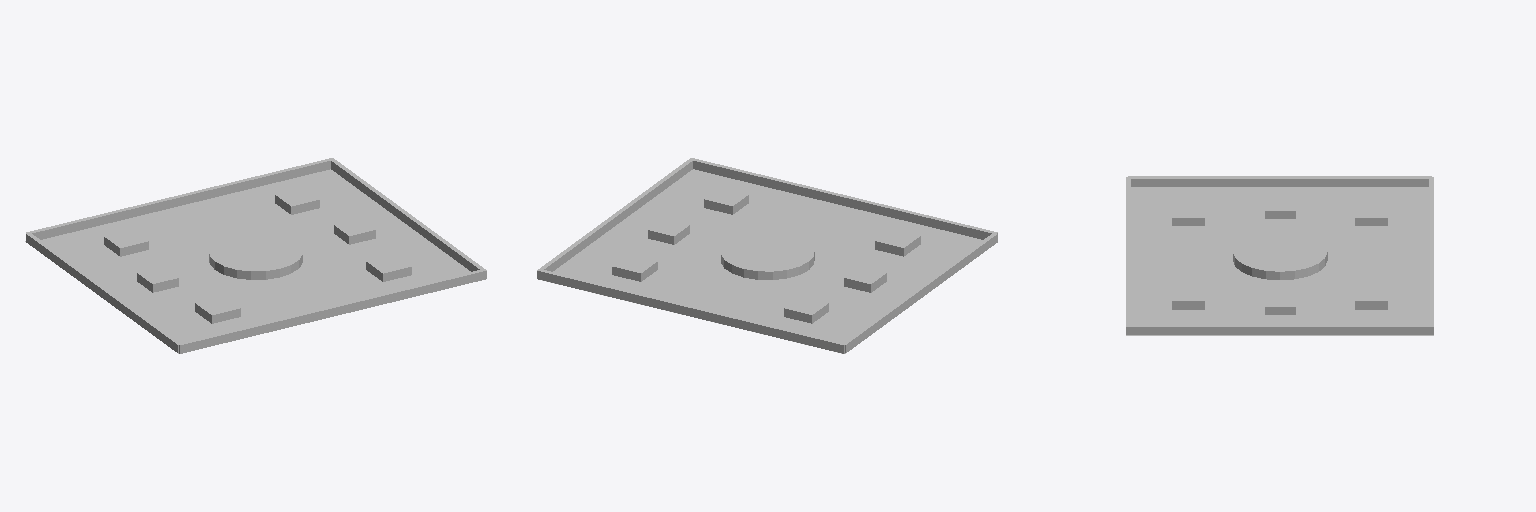
File: TestLevel02.obj
The picture shows the model from 3 angles: view 1: azimuth 30°, elevation 25°; view 2: azimuth 150°, elevation 25°; view 3: azimuth 270°, elevation 25°; orthographic projection.
Parts seen in each view (by area): view 1: floor, Obstacle1, behindWall, frontWall, rightWall, leftWall, Obstacle4, Obstacle7, Obstacle5, Obstacle6, Obstacle3, Obstacle2; view 2: floor, Obstacle1, frontWall, behindWall, rightWall, leftWall, Obstacle5, Obstacle7, Obstacle4, Obstacle6, Obstacle3, Obstacle2; view 3: floor, Obstacle1, rightWall, leftWall, Obstacle4, Obstacle5, behindWall, frontWall, Obstacle6, Obstacle7, Obstacle2, Obstacle3.
Part boxes in pixels (x1,y1,x2,y2): floor: (25,169,470,353); Obstacle1: (209,232,302,279); behindWall: (179,270,486,353); frontWall: (26,158,334,239); rightWall: (26,233,181,352); leftWall: (331,159,485,271); Obstacle4: (366,255,411,281); Obstacle7: (195,296,240,323); Obstacle5: (275,187,319,214); Obstacle6: (104,229,148,256); Obstacle3: (137,267,178,292); Obstacle2: (334,219,375,244); floor: (542,169,982,353); Obstacle1: (721,232,814,279); frontWall: (537,269,844,353); behindWall: (690,158,997,239); rightWall: (842,233,997,352); leftWall: (538,159,693,271); Obstacle5: (612,254,657,281); Obstacle7: (875,229,920,256); Obstacle4: (704,187,748,214); Obstacle6: (784,296,828,323); Obstacle3: (844,267,886,292); Obstacle2: (648,219,689,244); floor: (1126,187,1433,335); Obstacle1: (1233,232,1327,279); rightWall: (1128,176,1431,186); leftWall: (1128,325,1431,334); Obstacle4: (1172,287,1204,309); Obstacle5: (1355,287,1387,309); behindWall: (1126,177,1130,334); frontWall: (1429,177,1433,334); Obstacle6: (1355,204,1387,225); Obstacle7: (1172,204,1204,225); Obstacle2: (1265,294,1295,314); Obstacle3: (1265,198,1295,218).
Bounding box in the file's own units: 1502 × 40.55 × 1303.